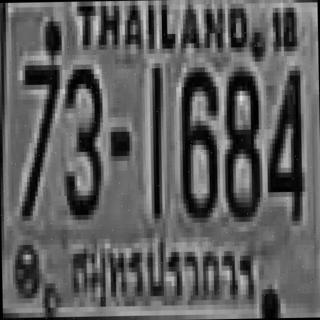N01: (149, 63, 162, 214)
N03: (62, 64, 102, 215)
N04: (266, 65, 302, 221)
N06: (178, 62, 218, 218)
N07: (18, 60, 60, 216)
N08: (221, 66, 260, 217)
P57: (65, 225, 260, 319)
